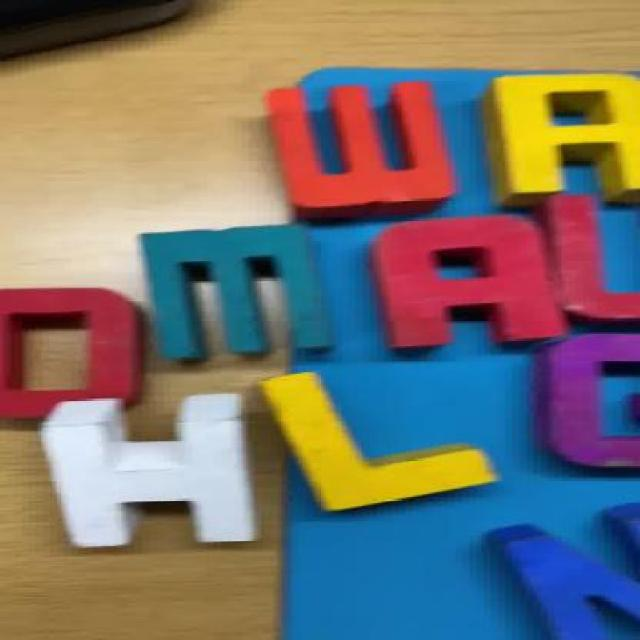A: (366, 201, 566, 362)
H: (31, 391, 280, 547)
L: (263, 369, 503, 511)
M: (120, 222, 374, 364)
O: (1, 279, 141, 421)
R: (467, 67, 639, 205)
W: (272, 80, 463, 218)
